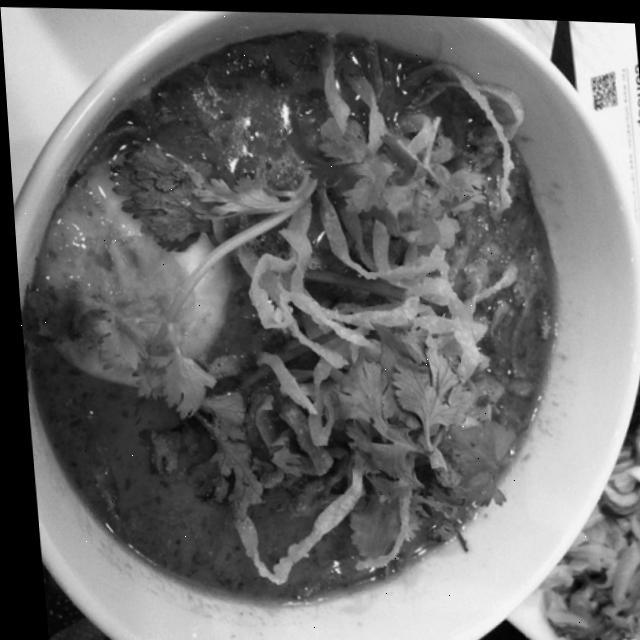面条主食: (5, 0, 640, 640)
